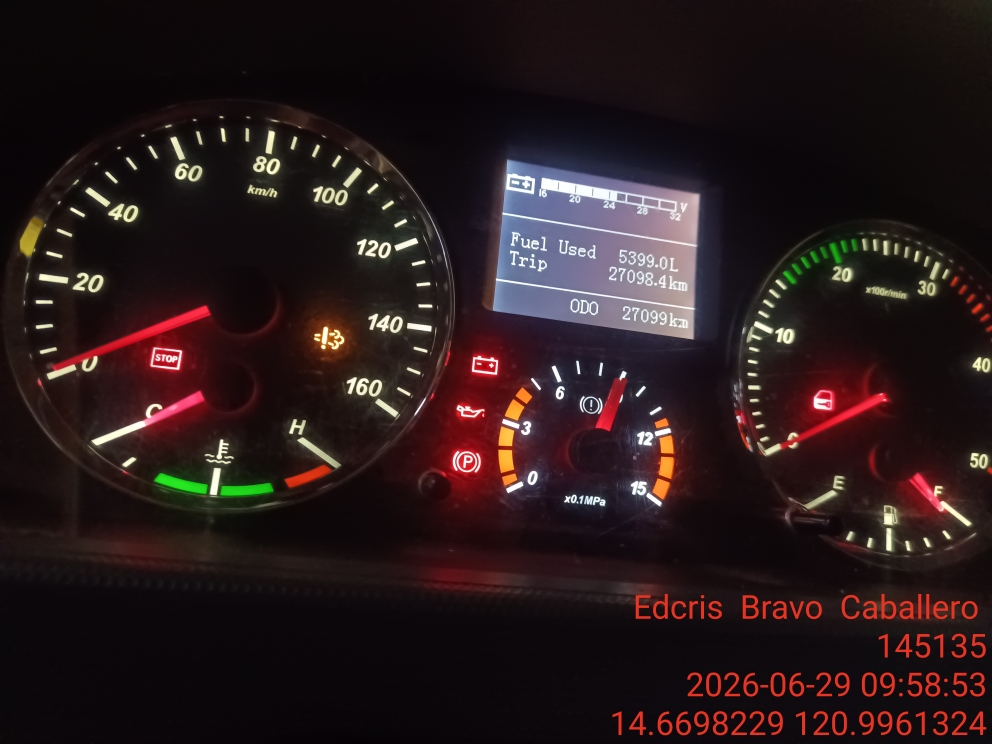pointer_pose: (204, 0, 975, 526)
